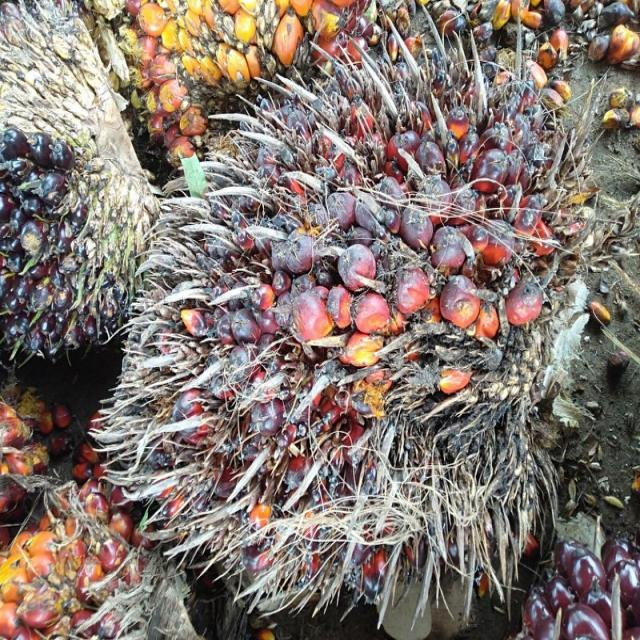fraksi 1: (66, 27, 618, 602)
